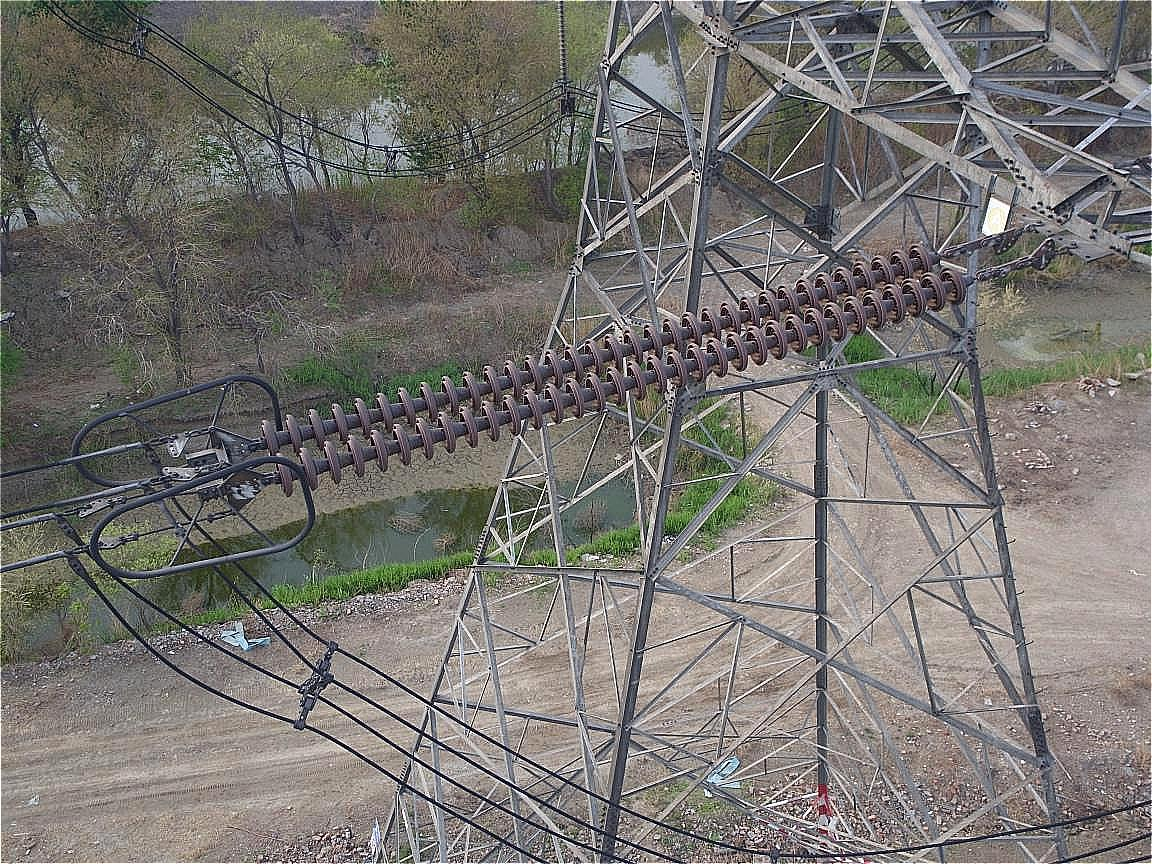insultor1: (238, 235, 997, 490)
